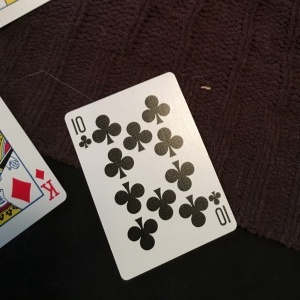card: (64, 72, 236, 282)
